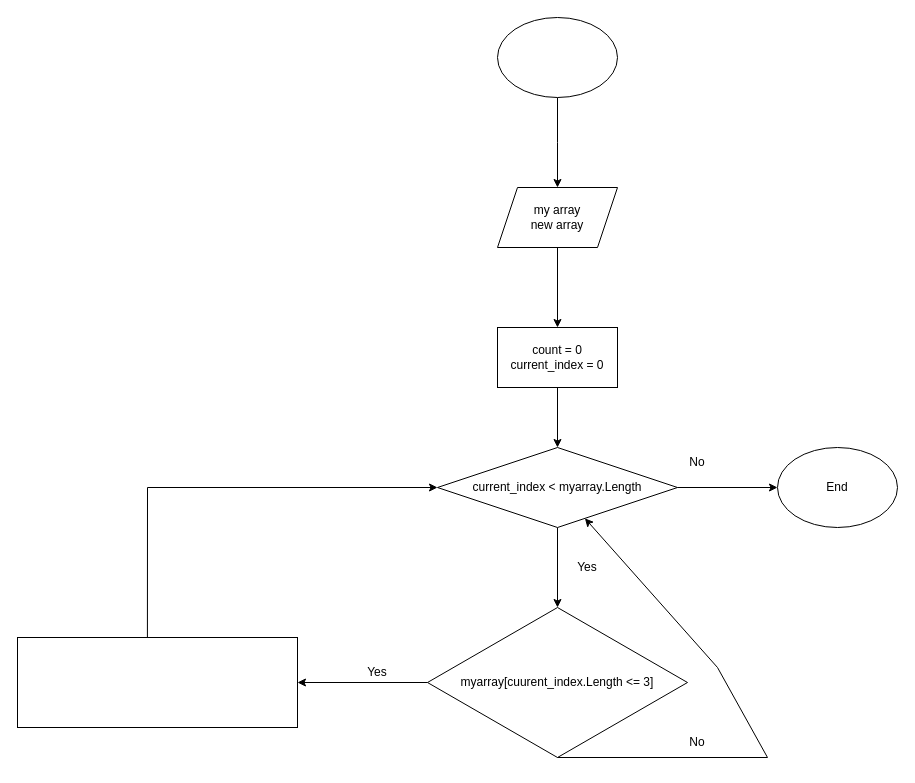
This 915x783 diagram has some shape labels left out. The centre of each missing label's shape, as x and y in pixels:
"newarray[count] = myarray[current_index]" goes at pixel 157 682.
"start" goes at pixel 557 57.
